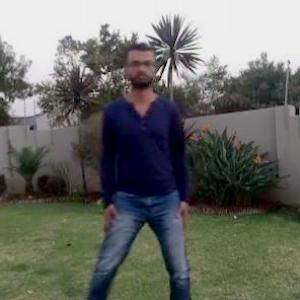follow: (90, 15, 198, 298)
